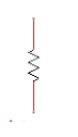resistor: (22, 38, 44, 91)
